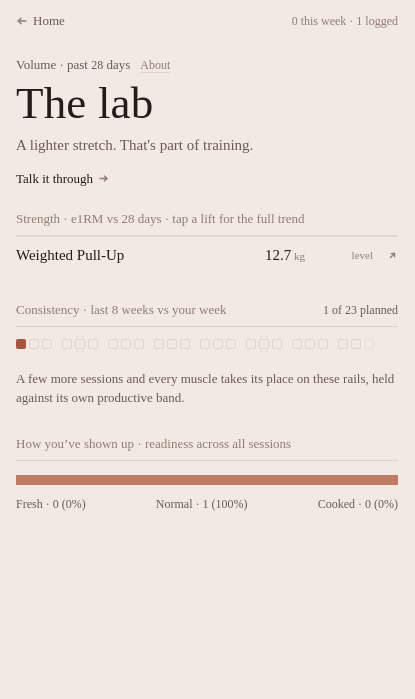
PerformanceLab — personal best line › reads a loaded bodyweight best as bodyweight plus the added kg
What coordinates should you click on to do the following:
click the button "Weighted Pull-Up 12.7 kg level"
I would click on:
 (70, 255)
Its box is [16,246,398,265].
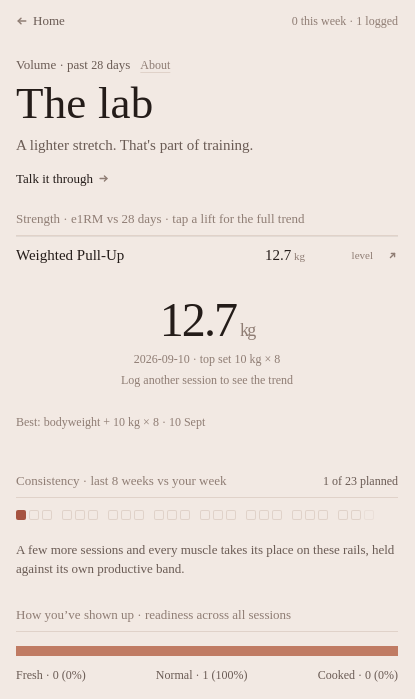
Expected: the element with test id "lift-best" shows "Best: bodyweight + 10 kg × 8 ·", [16,415,205,429]
